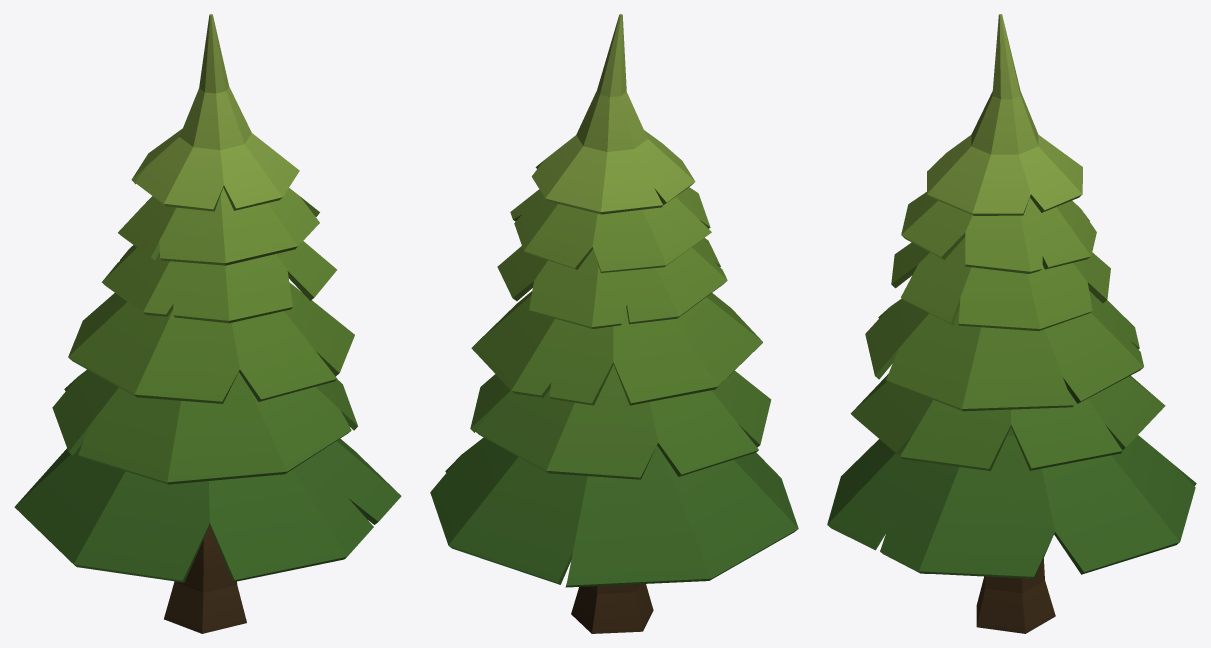
File: Summer_Tree_03.glb
3 views of the same model, side by side, from view 1: azimuth 30°, elevation 25°; view 2: azimuth 150°, elevation 25°; view 3: azimuth 270°, elevation 25° (orthographic).
Parts seen in each view (by area): view 1: Summer_Tree_03_LOD0; view 2: Summer_Tree_03_LOD0; view 3: Summer_Tree_03_LOD0.
Boxes of the visible parts, x1,y1,x2,y2 form: Summer_Tree_03_LOD0: (14, 14, 401, 633); Summer_Tree_03_LOD0: (430, 14, 798, 633); Summer_Tree_03_LOD0: (827, 14, 1196, 633).
Size of what is drawn, in the model's own units: 2.37 by 4.3 by 2.4.
1 material, 1 textured.
